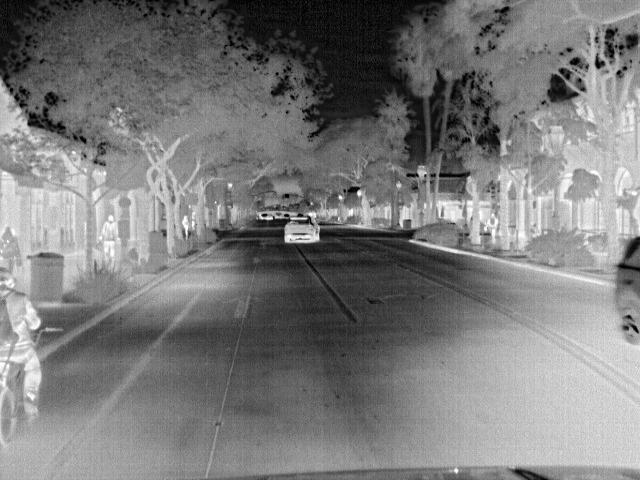car: (616, 234, 640, 345), (283, 214, 320, 243)
person: (2, 274, 42, 424), (100, 212, 120, 259), (485, 211, 499, 244), (179, 213, 192, 239), (188, 209, 200, 233)
